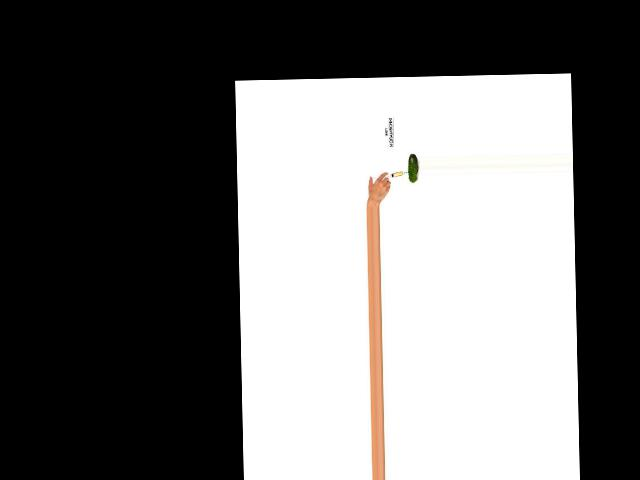cucumber: (407, 154, 418, 183)
